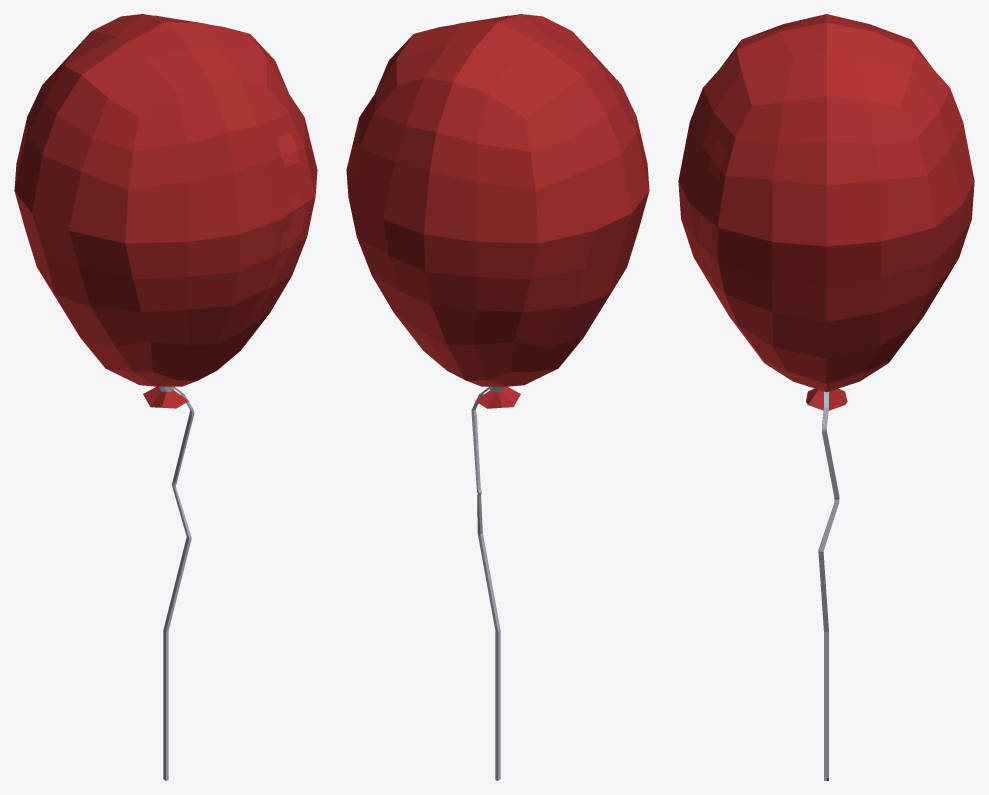
The model's file is Balloon1.fbx.
3 views of the same model, side by side, from view 1: azimuth 30°, elevation 25°; view 2: azimuth 150°, elevation 25°; view 3: azimuth 270°, elevation 25° (orthographic).
Visible parts, largest first — view 1: `ลูกโป่ง1; view 2: `ลูกโป่ง1; view 3: `ลูกโป่ง1.
Boxes of the visible parts, left/top/right/bottom form: `ลูกโป่ง1: left=14, top=14, right=317, bottom=780; `ลูกโป่ง1: left=346, top=14, right=649, bottom=780; `ลูกโป่ง1: left=678, top=14, right=974, bottom=780.
Bounding box in the file's own units: 145 × 392 × 139.
1 material, 1 textured.
